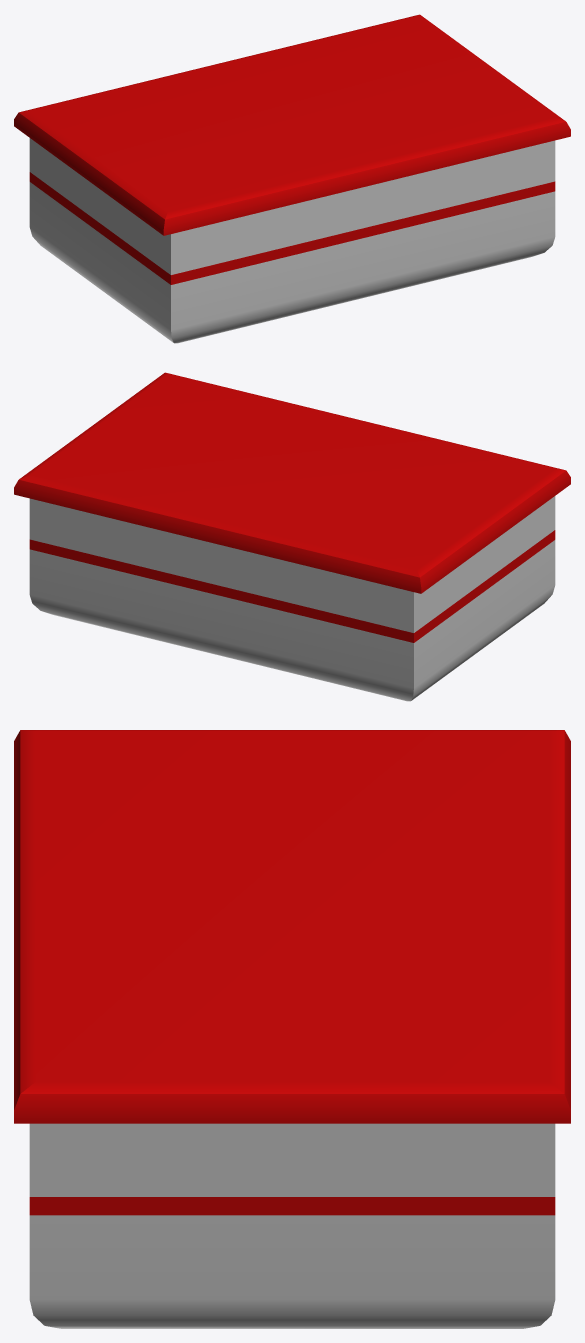
File: storagecontainer.fbx
3 renders of one model, top to bottom at view 1: azimuth 30°, elevation 25°; view 2: azimuth 150°, elevation 25°; view 3: azimuth 270°, elevation 25°, orthographic. The views are drawn at different scales.
Parts seen in each view (by area): view 1: storagecontainer; view 2: storagecontainer; view 3: storagecontainer.
Part boxes in pixels (bbox=[...]): storagecontainer: bbox=[14, 14, 570, 343]; storagecontainer: bbox=[14, 372, 570, 701]; storagecontainer: bbox=[14, 730, 570, 1328].
Bounding box in the file's own units: 77.02 × 25.77 × 49.09.
